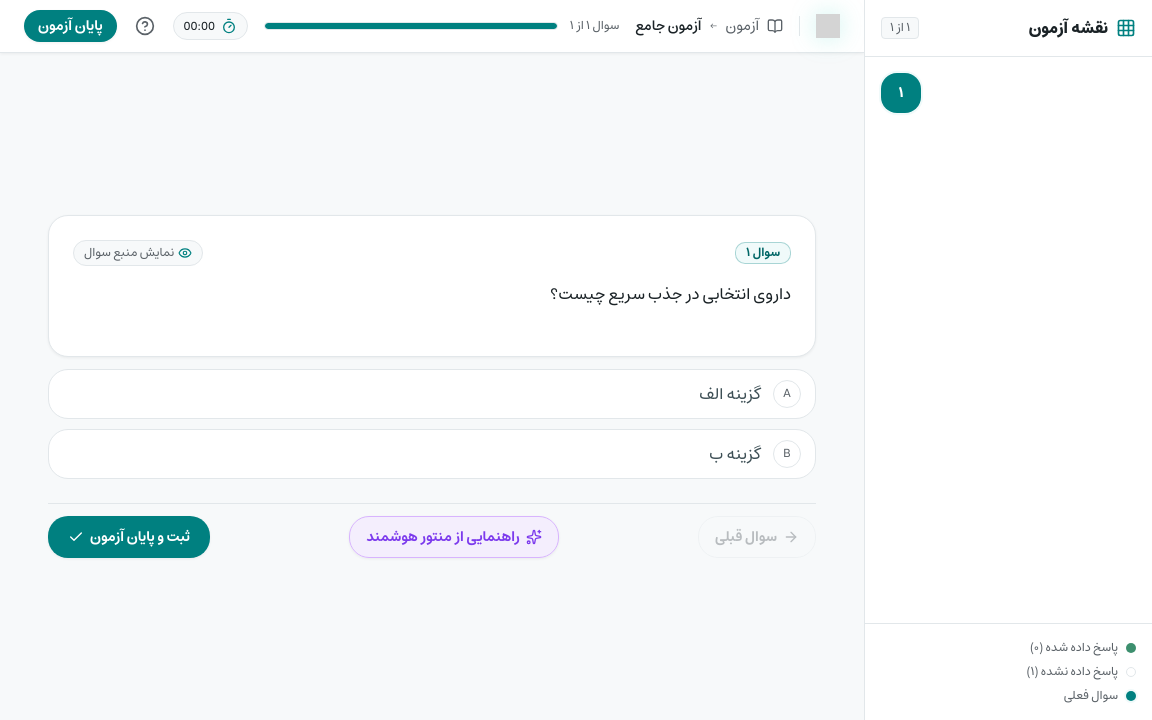
it: ExamTakingView Component › renders Lesson and Chapter in question source disclosure when question provides hierarchy
Check: the text "منبع:" is not shown
Click the button "نمایش منبع سوال" at x=138, y=253, box [73, 240, 203, 266]
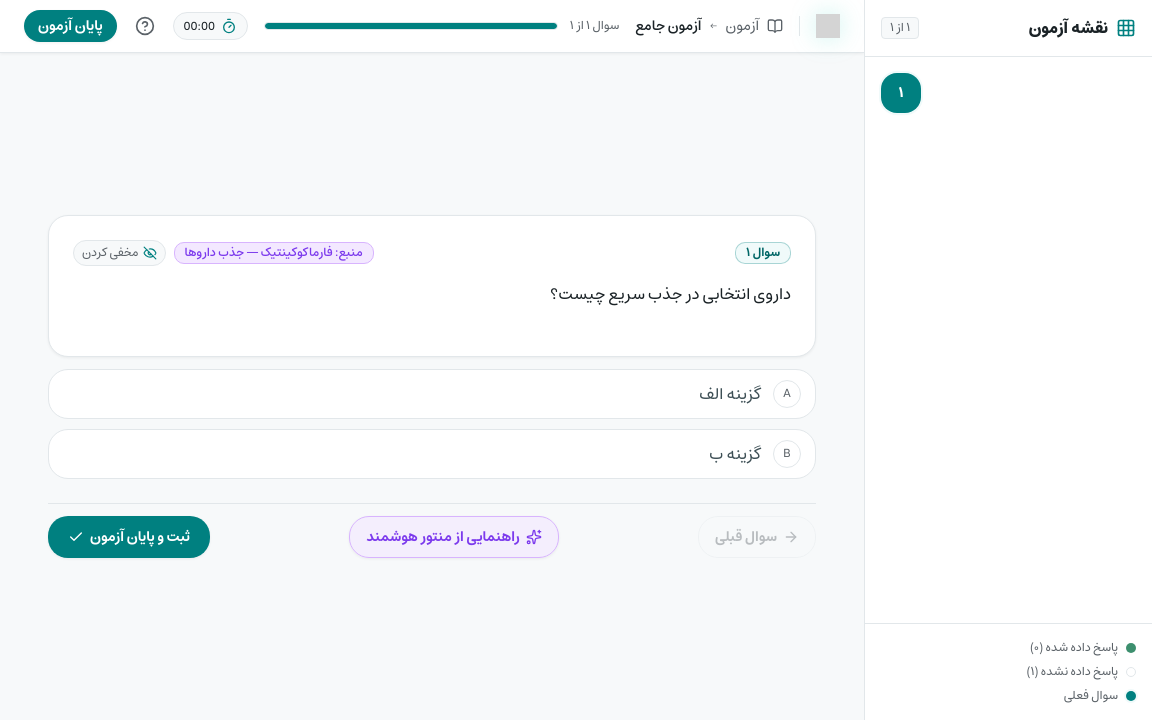
Check: the text "منبع: فارماکوکینتیک — جذب داروها" is shown, box [174, 242, 374, 264]
